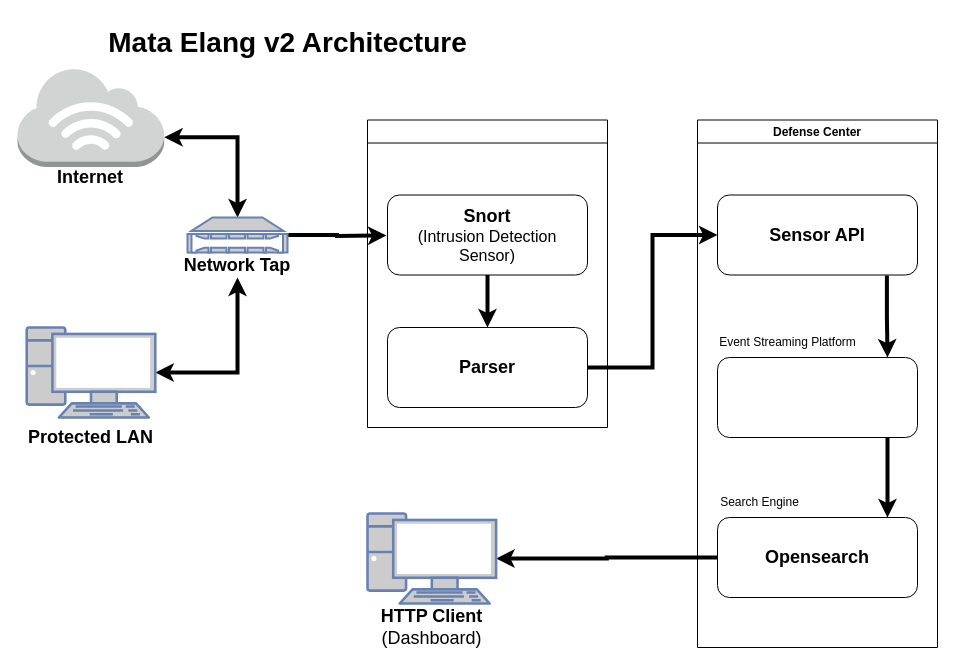
Some shapes in this 955 by 666 pixel diagram are drawn without their labels. The shapes that lost their labels are listed below. From the top down, each one's box as (x1, y1, x2, y2) in pixels, then its label:
(366, 119, 608, 428): Datasources
(716, 356, 918, 438): Kafka
